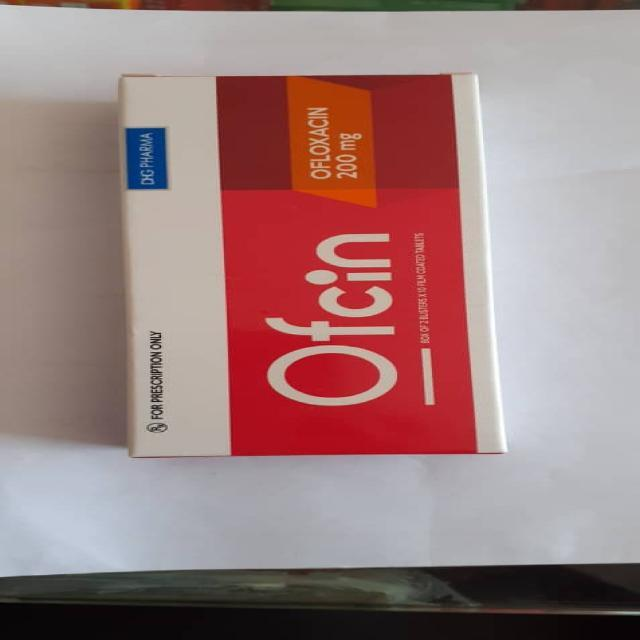drug-name: (266, 230, 406, 406)
